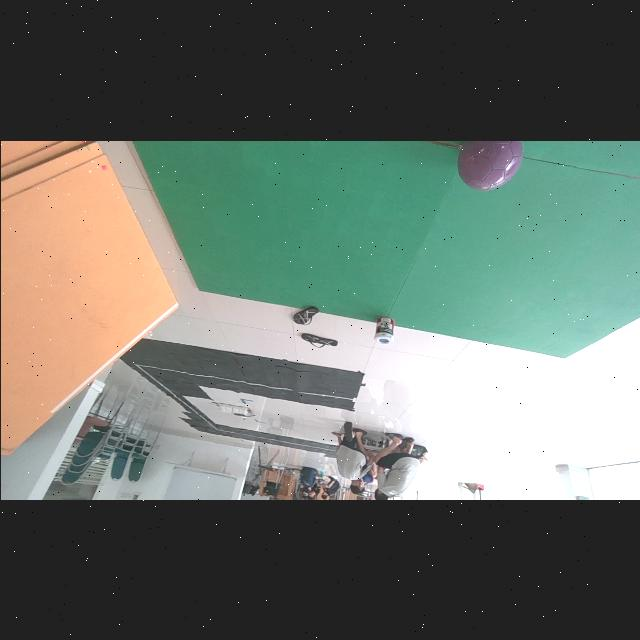P: (457, 140, 521, 190)
